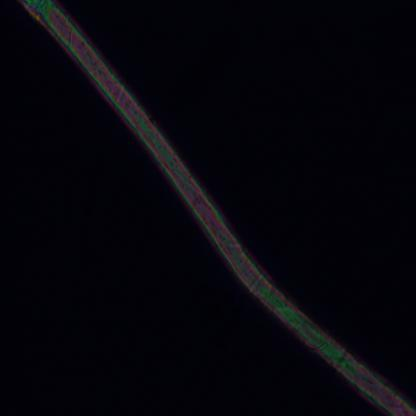Microfibre: (20, 0, 416, 416)
